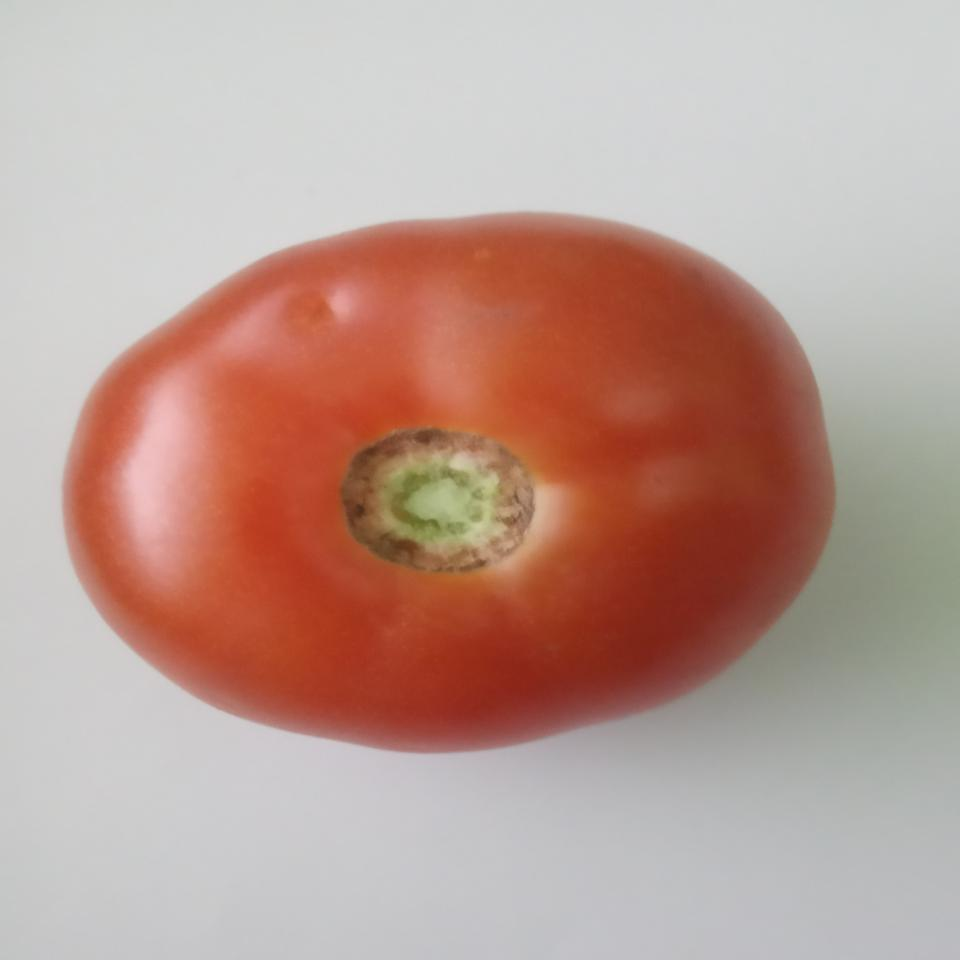Healthy: (51, 207, 852, 765)
